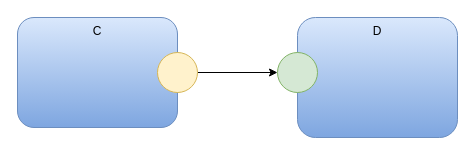
Some shapes in this 475 by 155 pixel diagram are drawn without their labels. Each missing label, with the centre of its shape:
in: the point at 297,72
out: the point at 177,72
